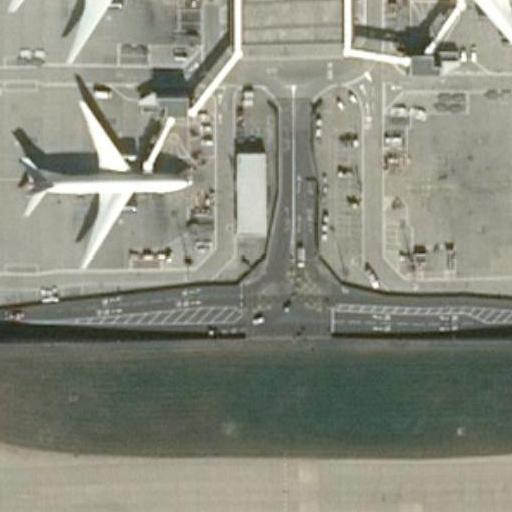Aircraft: (13, 95, 199, 267), (0, 0, 178, 60), (410, 0, 512, 75)
